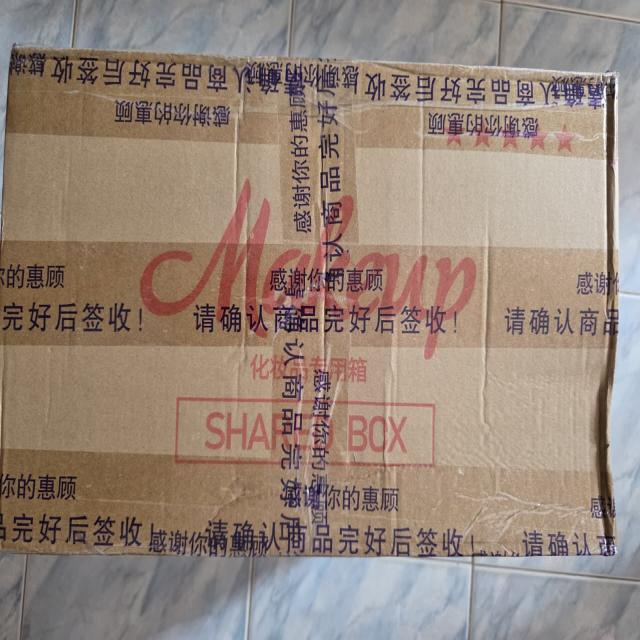carton_box: (0, 40, 634, 580)
